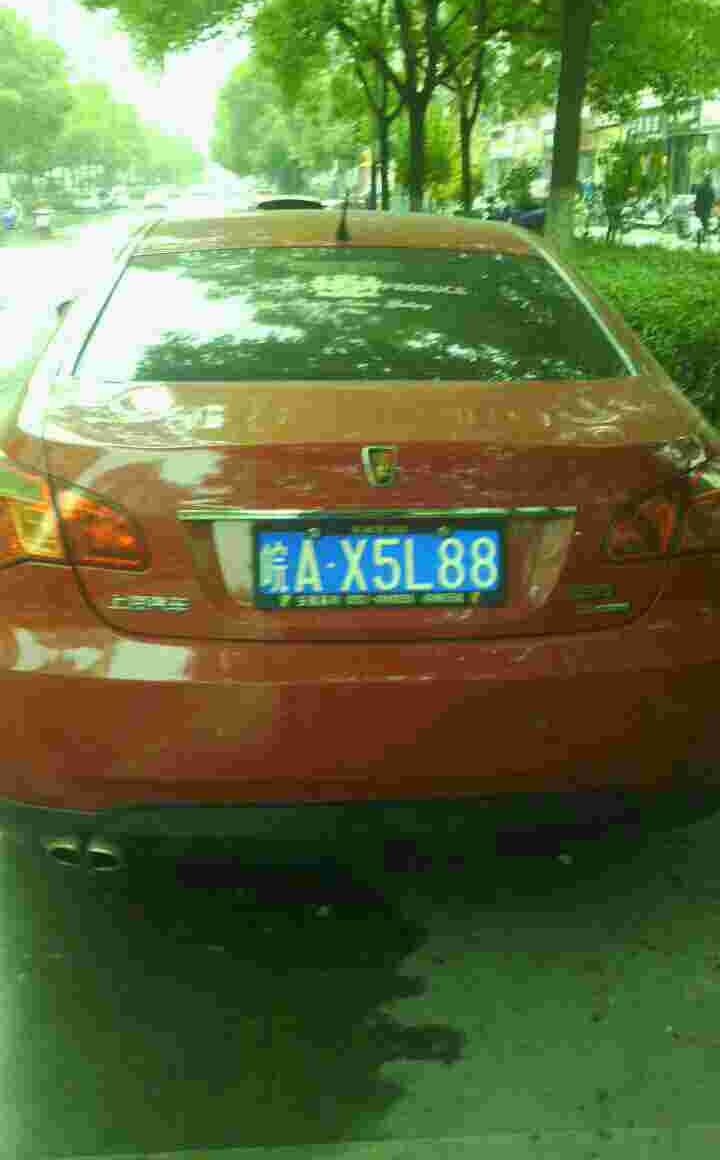license_plate: (257, 527, 499, 594)
